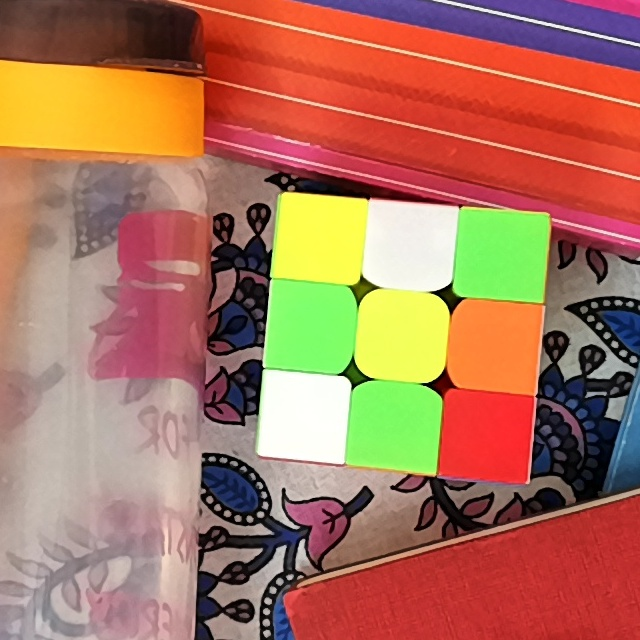tile: (463, 216, 541, 293), (450, 399, 524, 473), (457, 309, 532, 381), (274, 290, 346, 363), (267, 382, 340, 453), (284, 203, 355, 273), (365, 302, 437, 371), (374, 213, 445, 281), (360, 391, 431, 458)
